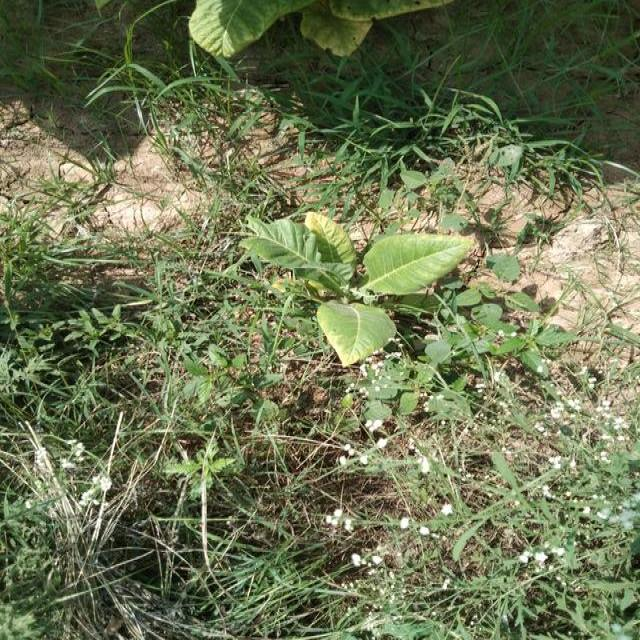crop: (248, 223, 466, 368), (188, 0, 459, 53)
